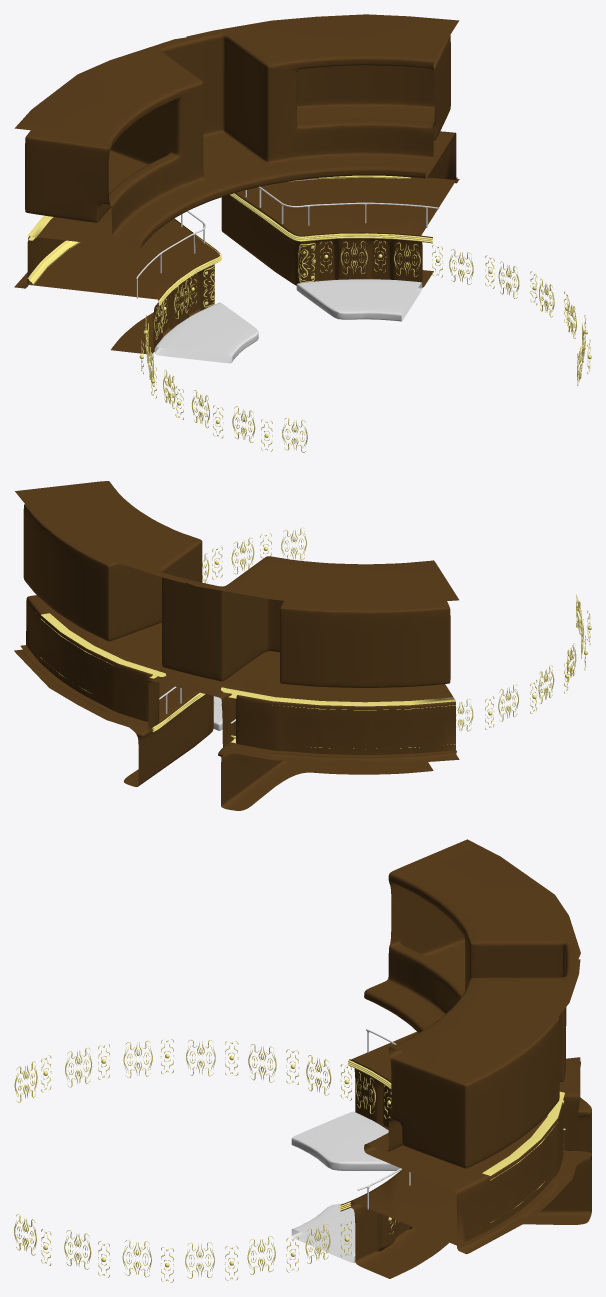
File: Geo_Wall_Corridor.fbx
The picture shows the model from 3 angles, top to bottom: view 1: azimuth 30°, elevation 25°; view 2: azimuth 150°, elevation 25°; view 3: azimuth 270°, elevation 25°; orthographic projection. The views are drawn at different scales.
Visible parts, largest first — view 1: Geo_Opera_Up_Structure_011, Geo_Opera_Up_Structure_004, Geo_Opera_Low_Structure_004, Geo_Opera_Low_Structure_005, Geo_Opera_Detail_001, Geo_Opera_Water_Structure_002, Geo_Opera_Water_Structure_008, Geo_Opera_Detail_003, Opera_Low_Decoration_008, Geo_Opera_Up_Structure_016, Geo_Opera_Back_Decoration_007, Geo_Opera_Up_Structure_005 (+3 smaller); view 2: Geo_Opera_Up_Structure_004, Geo_Opera_Up_Structure_011, Geo_Opera_Up_Structure_016, Geo_Opera_Up_Structure_005, Geo_Opera_Low_Structure_005, Geo_Opera_Low_Structure_004, Geo_Opera_Detail_001, Geo_Opera_Back_Decoration_007, Geo_Opera_Back_Decoration_008, Geo_Opera_Detail_003; view 3: Geo_Opera_Up_Structure_011, Geo_Opera_Up_Structure_004, Geo_Opera_Low_Structure_004, Geo_Opera_Up_Structure_005, Geo_Opera_Detail_001, Geo_Opera_Water_Structure_008, Geo_Opera_Low_Structure_005, Geo_Opera_Water_Structure_002, Geo_Opera_Detail_003, Geo_Opera_Back_Decoration_008.
Boxes of the visible parts, box(x1,y1,x2,y2) form: Geo_Opera_Up_Structure_011: box(186, 14, 459, 188); Geo_Opera_Up_Structure_004: box(14, 37, 250, 248); Geo_Opera_Low_Structure_004: box(221, 177, 457, 287); Geo_Opera_Low_Structure_005: box(22, 219, 219, 353); Geo_Opera_Detail_001: box(146, 241, 584, 452); Geo_Opera_Water_Structure_002: box(296, 279, 422, 321); Geo_Opera_Water_Structure_008: box(154, 302, 258, 363); Geo_Opera_Detail_003: box(139, 240, 591, 451); Opera_Low_Decoration_008: box(229, 193, 432, 243); Geo_Opera_Up_Structure_016: box(14, 237, 65, 288); Geo_Opera_Back_Decoration_007: box(27, 215, 80, 284); Geo_Opera_Up_Structure_005: box(427, 136, 459, 183); Geo_Opera_Up_Structure_004: box(185, 556, 458, 710); Geo_Opera_Up_Structure_011: box(15, 481, 202, 688); Geo_Opera_Up_Structure_016: box(221, 697, 459, 763); Geo_Opera_Up_Structure_005: box(14, 601, 159, 729); Geo_Opera_Low_Structure_005: box(218, 739, 456, 810); Geo_Opera_Low_Structure_004: box(20, 645, 213, 786); Geo_Opera_Detail_001: box(202, 527, 583, 731); Geo_Opera_Back_Decoration_007: box(221, 687, 455, 749); Geo_Opera_Back_Decoration_008: box(40, 613, 166, 691); Geo_Opera_Detail_003: box(212, 533, 591, 729); Geo_Opera_Up_Structure_011: box(364, 959, 580, 1196); Geo_Opera_Up_Structure_004: box(364, 839, 580, 1076); Geo_Opera_Low_Structure_004: box(350, 1150, 591, 1278); Geo_Opera_Up_Structure_005: box(456, 1100, 579, 1254); Geo_Opera_Detail_001: box(14, 1039, 398, 1278); Geo_Opera_Water_Structure_008: box(291, 1111, 399, 1170); Geo_Opera_Low_Structure_005: box(351, 1031, 591, 1154); Geo_Opera_Water_Structure_002: box(291, 1203, 355, 1262); Geo_Opera_Detail_003: box(41, 1039, 393, 1282); Geo_Opera_Back_Decoration_008: box(482, 1091, 564, 1222).
Bounding box in the file's own units: 2274 × 1029 × 2316.
